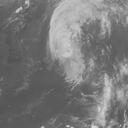cyclone: (49, 16, 84, 85)
